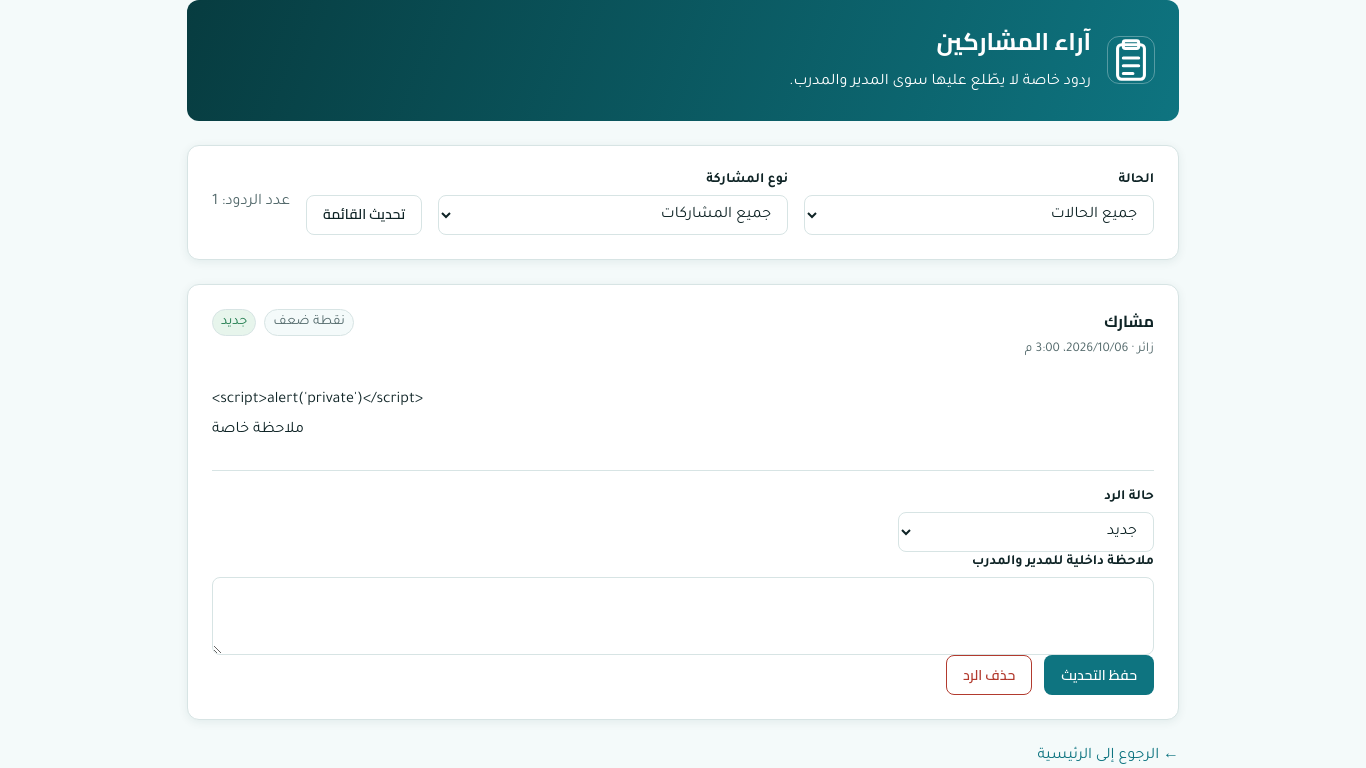
Test: staff participant-response inbox › applies filters on the server and clears all private content if permission is revoked
This screenshot has width=1366, height=768.
Select "مؤرشف" in the dropdown labelled "الحالة" at (979, 215), box [804,195,1154,235]
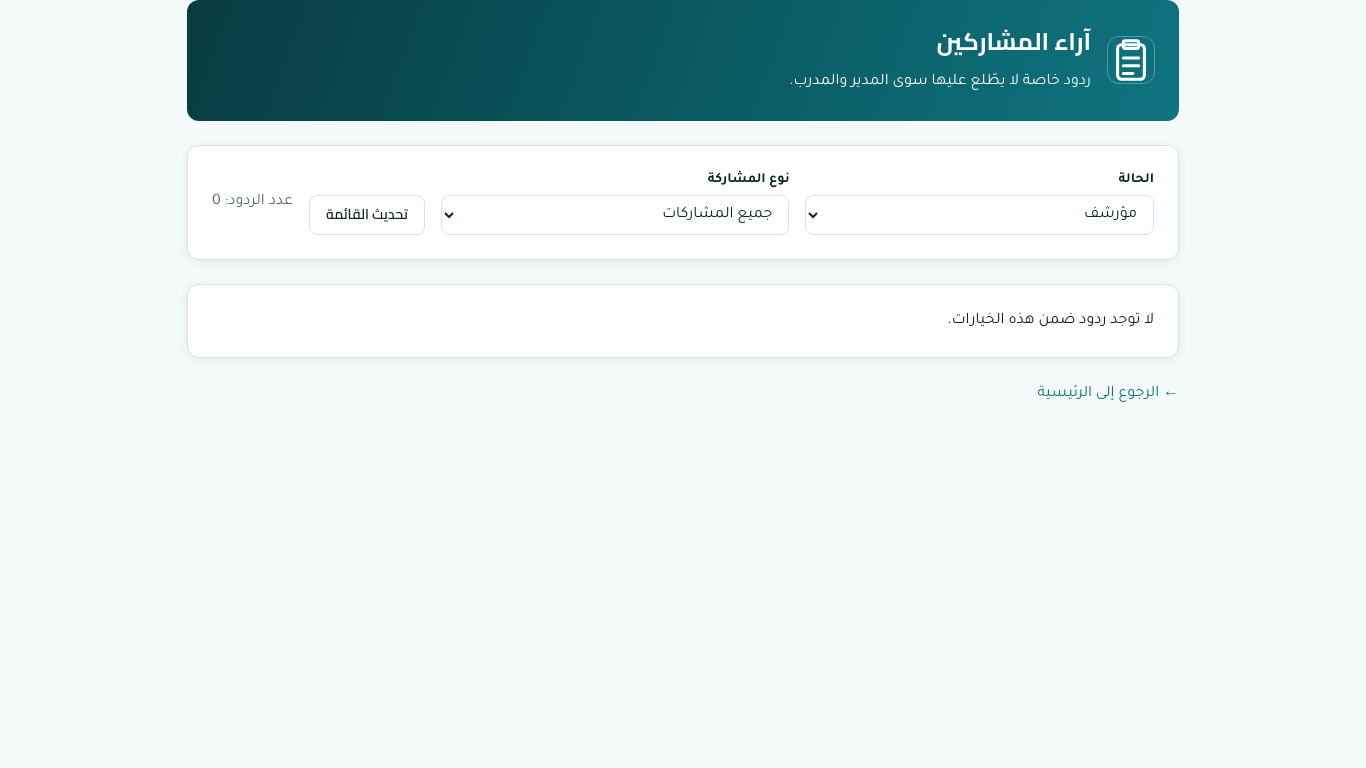
expect the text "لا توجد ردود ضمن هذه الخيارات." is shown: met, box [948,313,1154,329]
Click the button "تحديث القائمة".
click(367, 215)  # box [309,195,425,235]
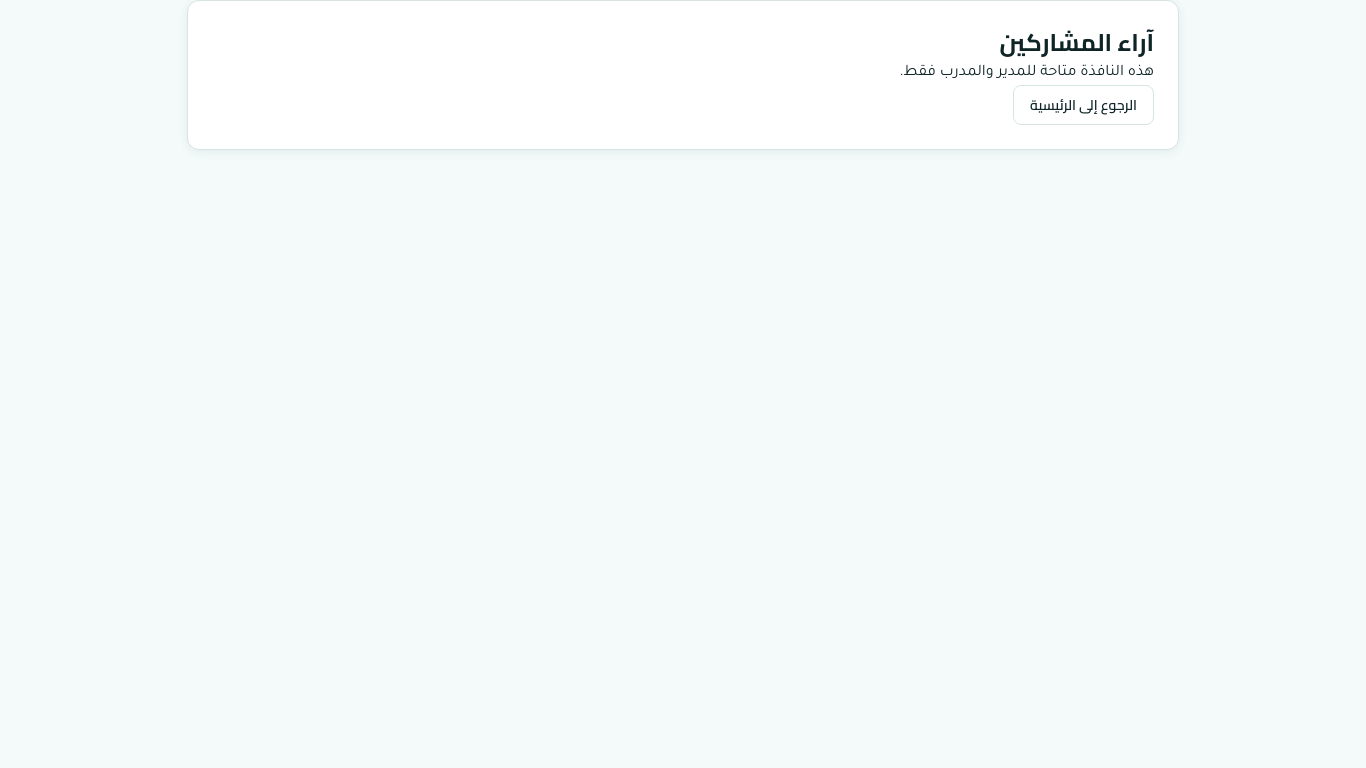
expect the text "ملاحظة خاصة" is not shown: met
expect the message reads "هذه النافذة متاحة للمدير والمدرب فقط.": met, box [899,65,1154,81]
